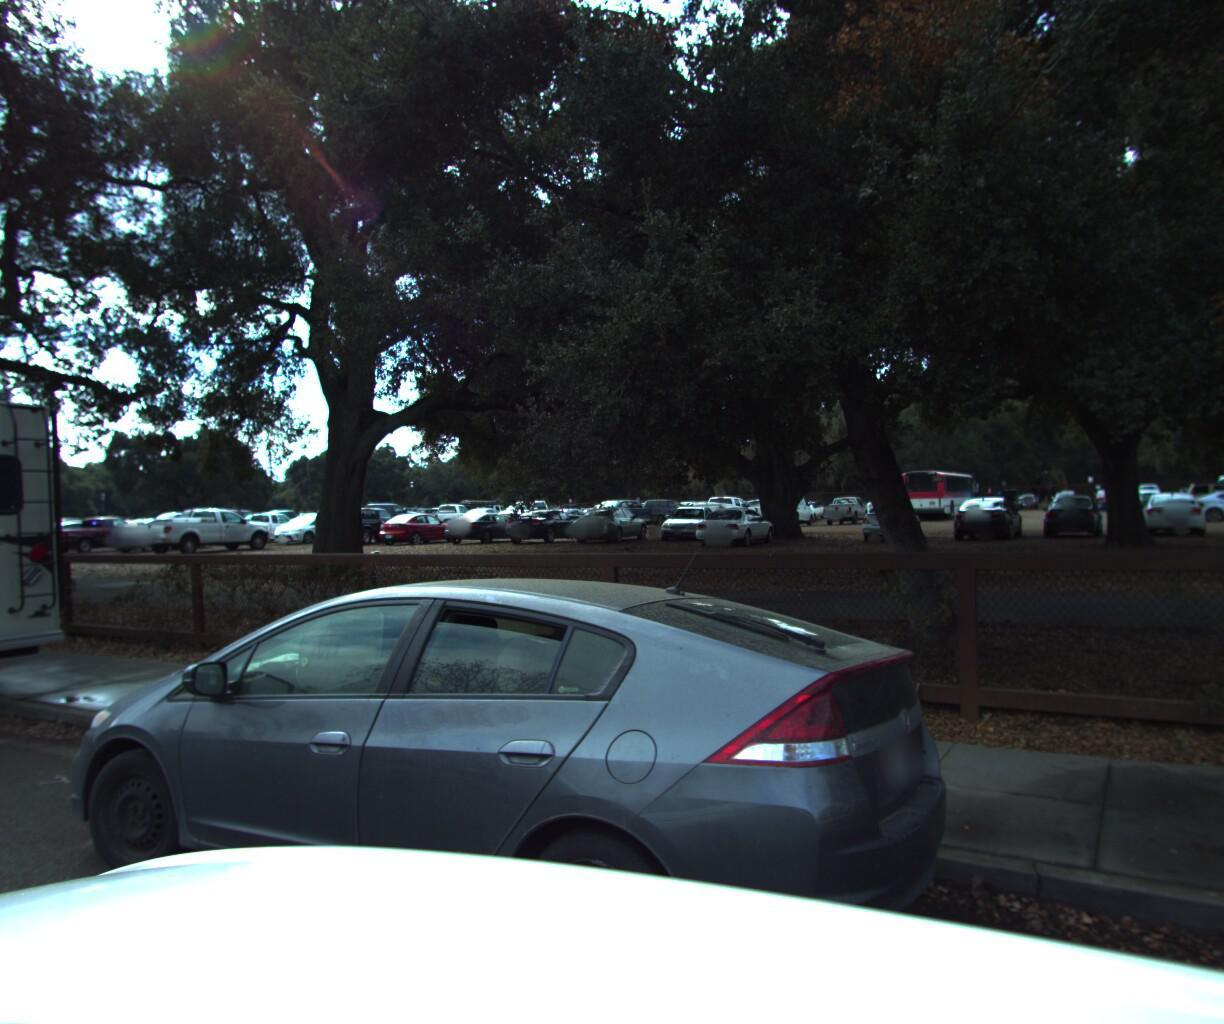car: (0, 552, 971, 1024)
other_vehicle: (0, 322, 95, 784)
